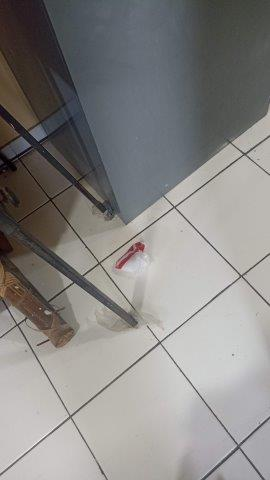plastik: (81, 307, 171, 334), (107, 241, 153, 278)
